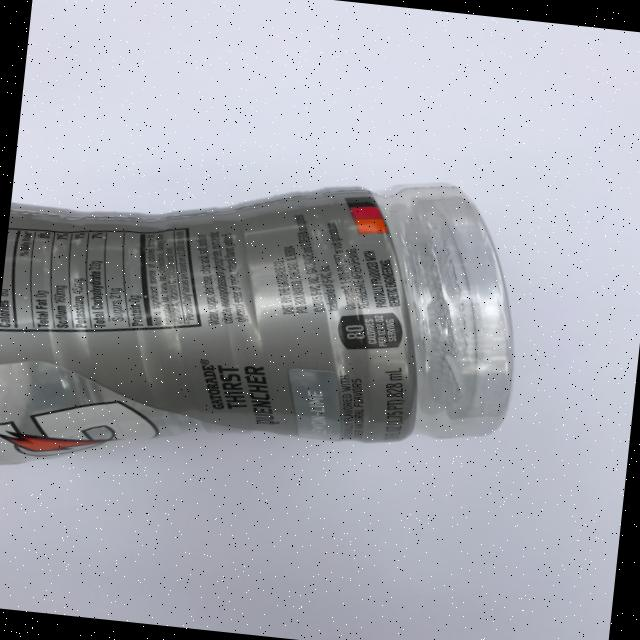plastic: (0, 136, 533, 517)
